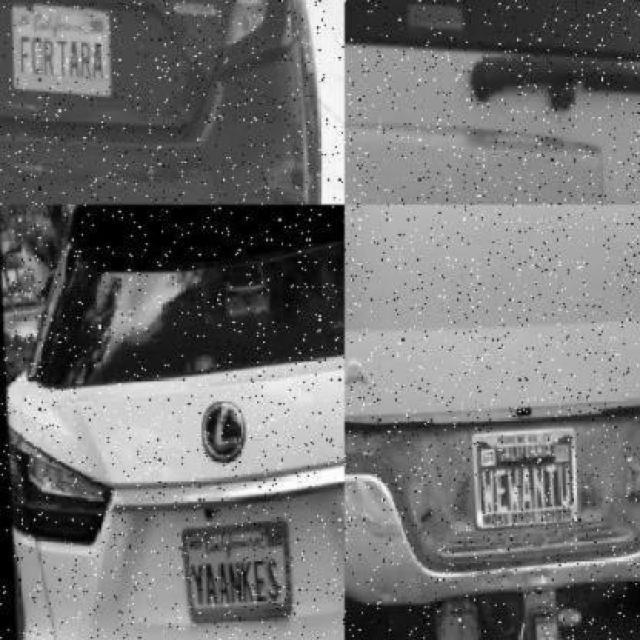licenseplate: (473, 407, 590, 536), (178, 508, 301, 622), (11, 0, 118, 97), (323, 0, 344, 15)
